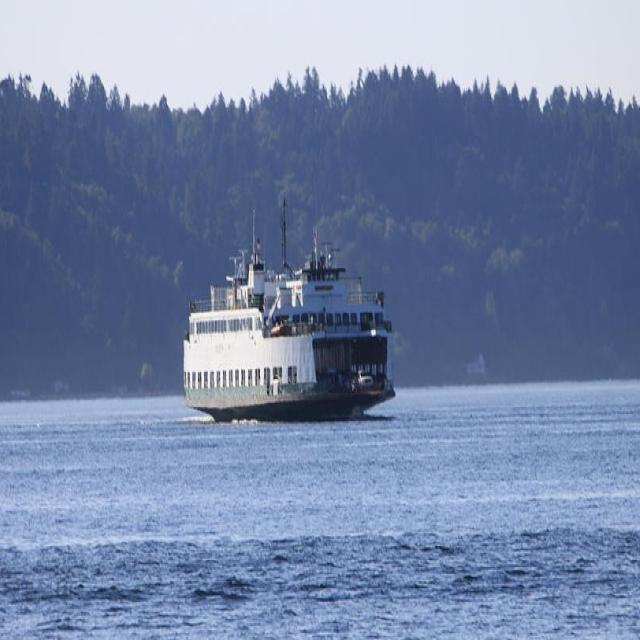passenger ship: (182, 206, 400, 427)
